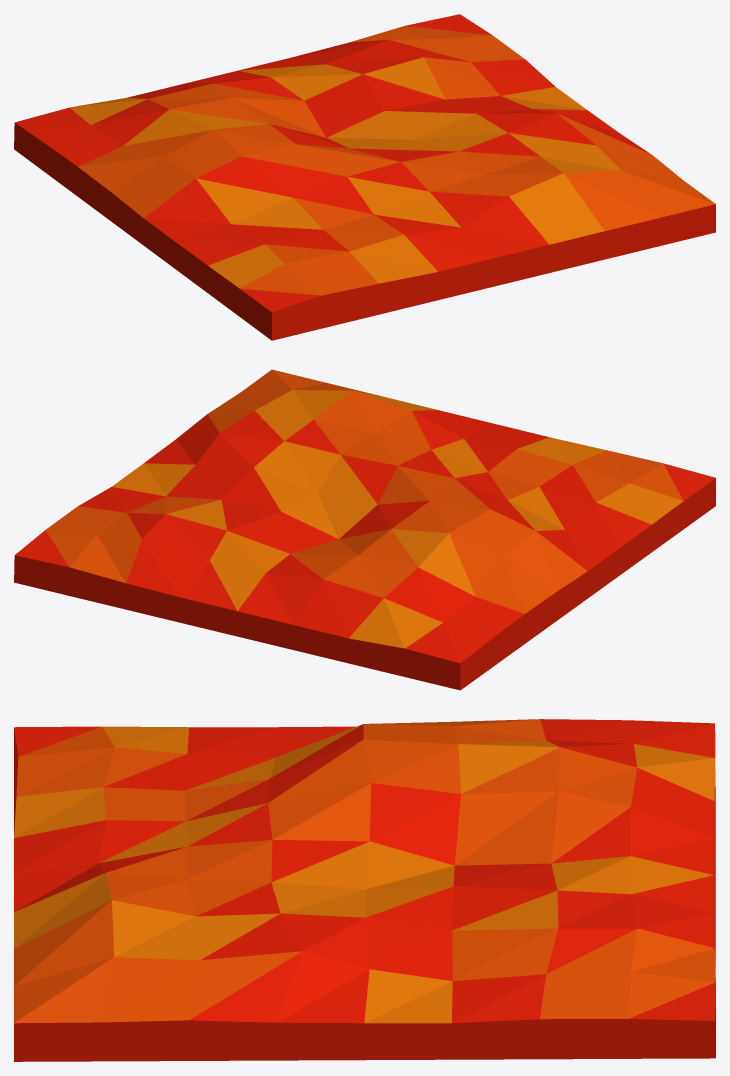
File: lava.fbx
3 views of the same model, one above another, from view 1: azimuth 30°, elevation 25°; view 2: azimuth 150°, elevation 25°; view 3: azimuth 270°, elevation 25° (orthographic). The views are drawn at different scales.
Parts seen in each view (by area): view 1: Plane; view 2: Plane; view 3: Plane.
Part boxes in pixels (x1,y1,x2,y2): Plane: [14, 14, 715, 340]; Plane: [14, 369, 715, 690]; Plane: [14, 719, 715, 1061].
Size of the model in its own units: 201 by 28.81 by 200.
